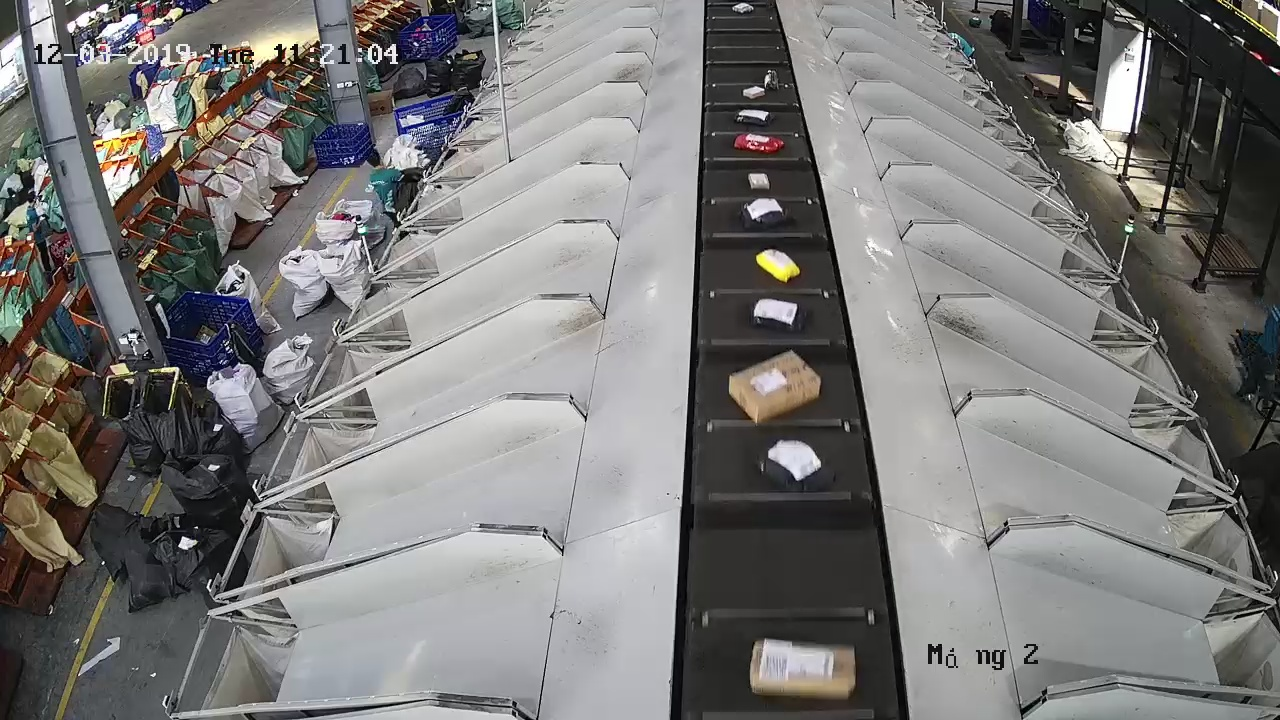parcel: (727, 348, 822, 428), (748, 636, 857, 701), (758, 438, 837, 494), (749, 296, 803, 334), (755, 248, 802, 285), (739, 196, 787, 231), (747, 172, 771, 190)
